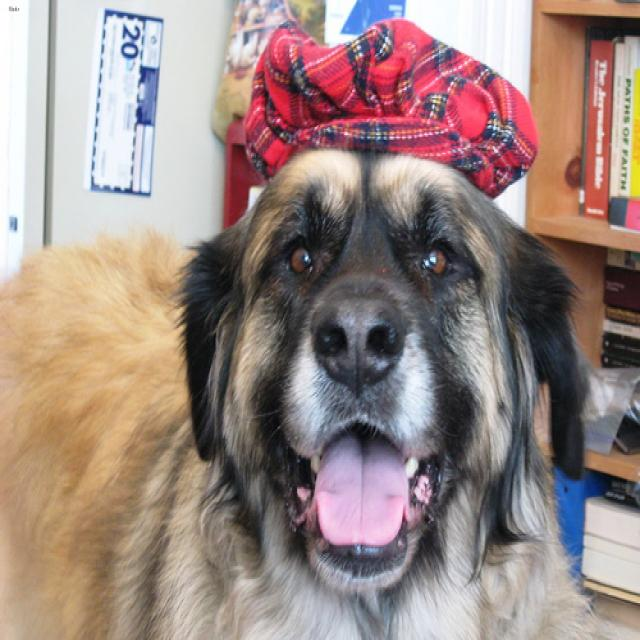dog-leonberger: (1, 138, 611, 637)
